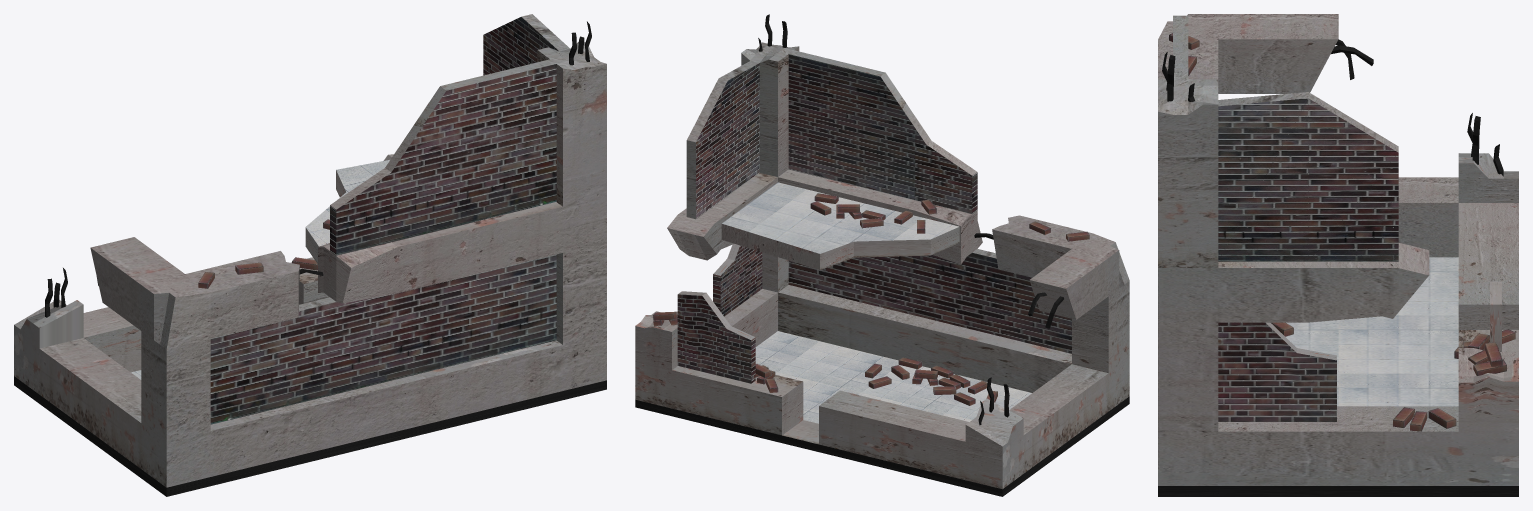
Rendered from ruine.glb.
The picture shows the model from 3 angles, left to right: view 1: azimuth 30°, elevation 25°; view 2: azimuth 150°, elevation 25°; view 3: azimuth 270°, elevation 25°; orthographic projection. The views are drawn at different scales.
Parts seen in each view (by area): view 1: Object_2, Object_3, Object_5, Object_4; view 2: Object_2, Object_3, Object_4, Object_5; view 3: Object_2, Object_3, Object_4, Object_5.
Boxes of the visible parts, x1,y1,x2,y2 form: Object_2: [14, 14, 606, 487]; Object_3: [198, 17, 558, 424]; Object_5: [14, 21, 606, 496]; Object_4: [131, 160, 389, 379]; Object_2: [635, 42, 1129, 489]; Object_3: [652, 54, 1089, 405]; Object_4: [722, 182, 1031, 423]; Object_5: [635, 14, 1129, 496]; Object_2: [1158, 14, 1518, 485]; Object_3: [1169, 33, 1515, 431]; Object_4: [1285, 257, 1458, 406]; Object_5: [1158, 39, 1518, 496].
Size of the model in its own units: 10 by 7.97 by 6.
4 materials, 4 textured.
